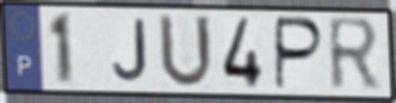1: (47, 9, 78, 88)
4: (220, 15, 266, 91)
J: (110, 17, 150, 84)
P: (273, 14, 327, 93)
R: (325, 15, 384, 95)
U: (156, 11, 216, 91)
